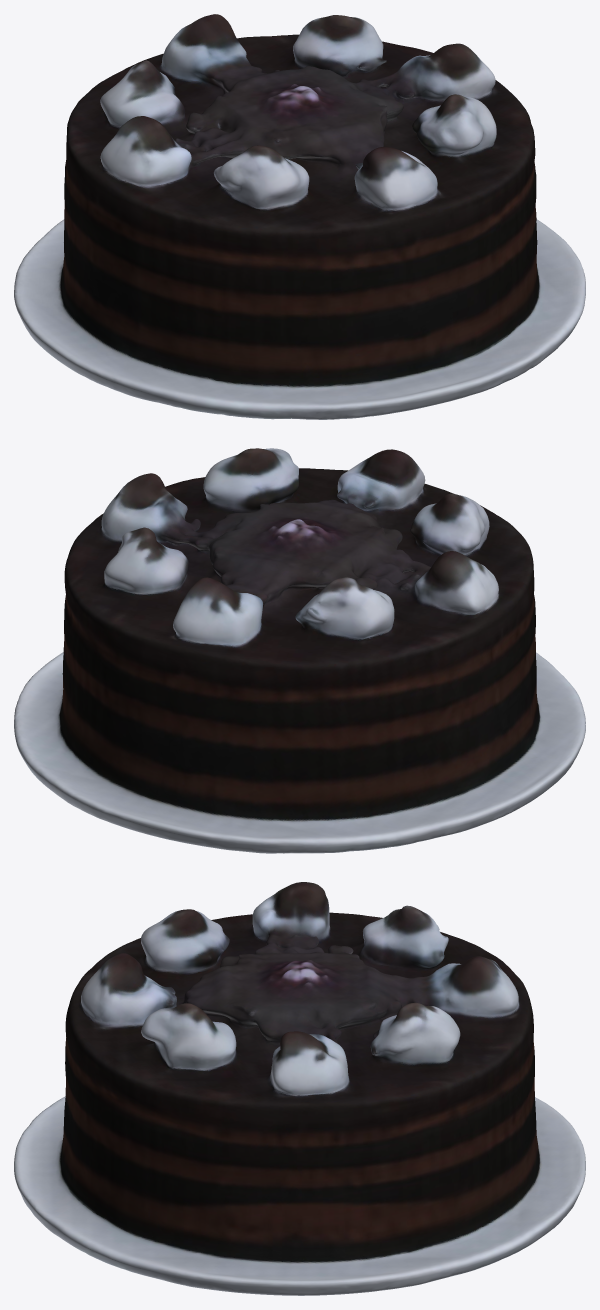
Rendered from cake.glb.
The picture shows the model from 3 angles, top to bottom: view 1: azimuth 30°, elevation 25°; view 2: azimuth 150°, elevation 25°; view 3: azimuth 270°, elevation 25°; orthographic projection.
Parts seen in each view (by area): view 1: high_poly_0; view 2: high_poly_0; view 3: high_poly_0.
Boxes of the visible parts, x1=… form: high_poly_0: x1=14, y1=14, x2=585, y2=419; high_poly_0: x1=14, y1=448, x2=585, y2=853; high_poly_0: x1=14, y1=882, x2=585, y2=1295.
Size of the model in its own units: 0.9993 by 0.4308 by 1.
1 material, 1 textured.
